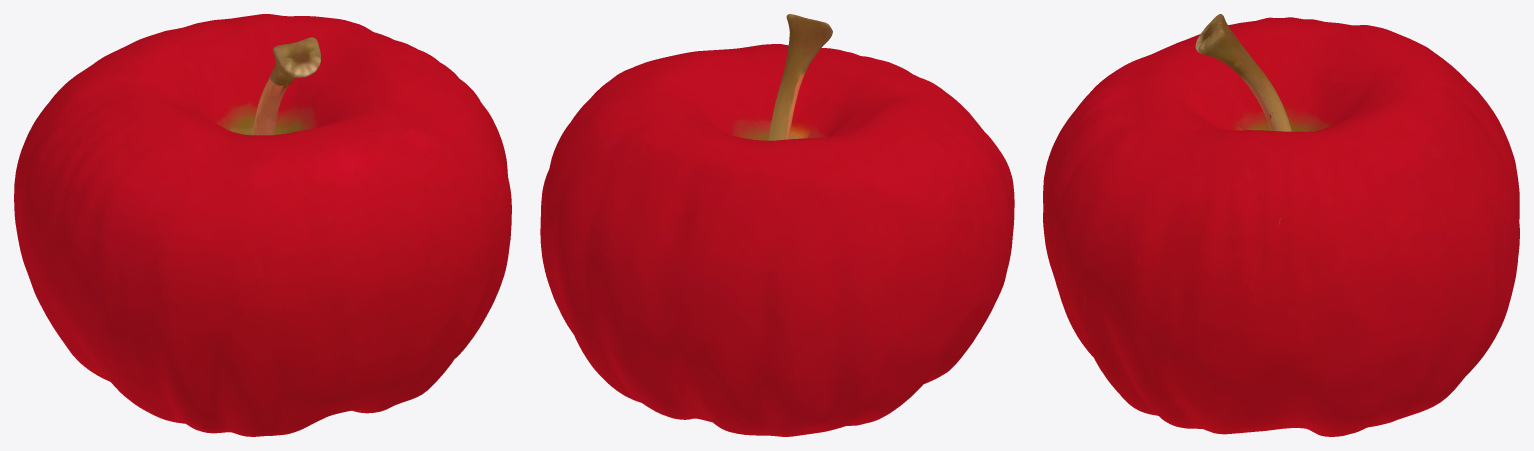
The model's file is kitchen-apple-05.glb.
3 renders of one model, left to right at view 1: azimuth 30°, elevation 25°; view 2: azimuth 150°, elevation 25°; view 3: azimuth 270°, elevation 25°, orthographic. The views are drawn at different scales.
Bounding box in the file's own units: 1.9 × 1.55 × 1.85.
Materials: 1 (1 with a texture image).
